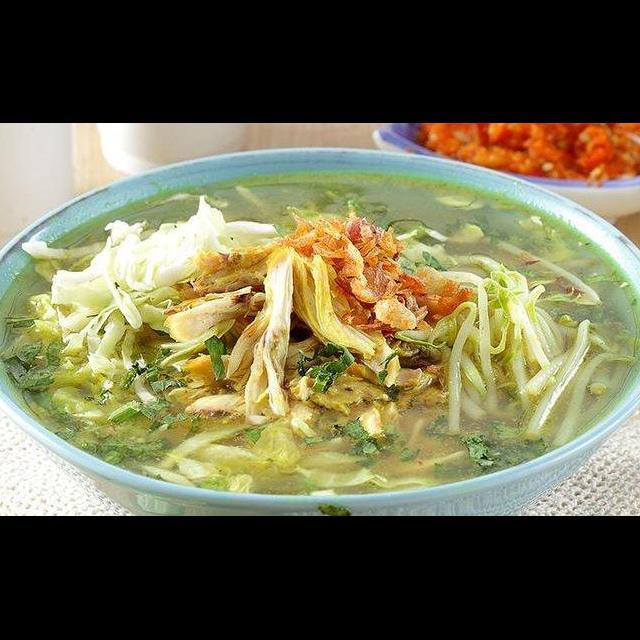Soto: (5, 187, 634, 495)
